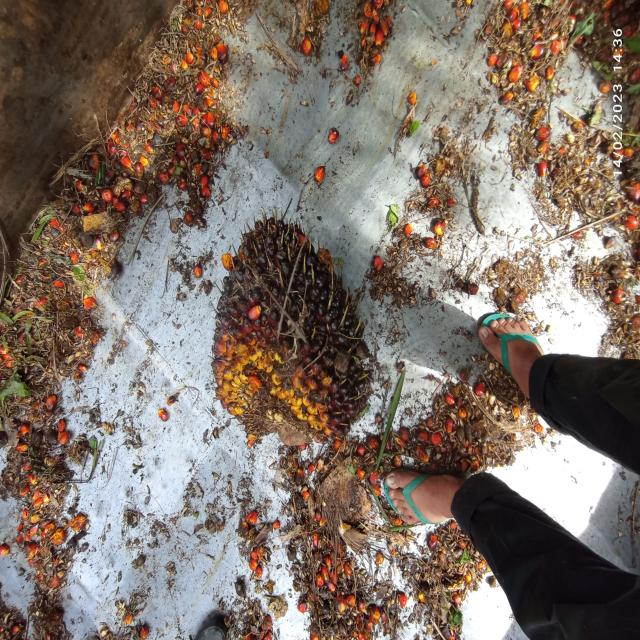fraksi 00: (199, 213, 387, 461)
